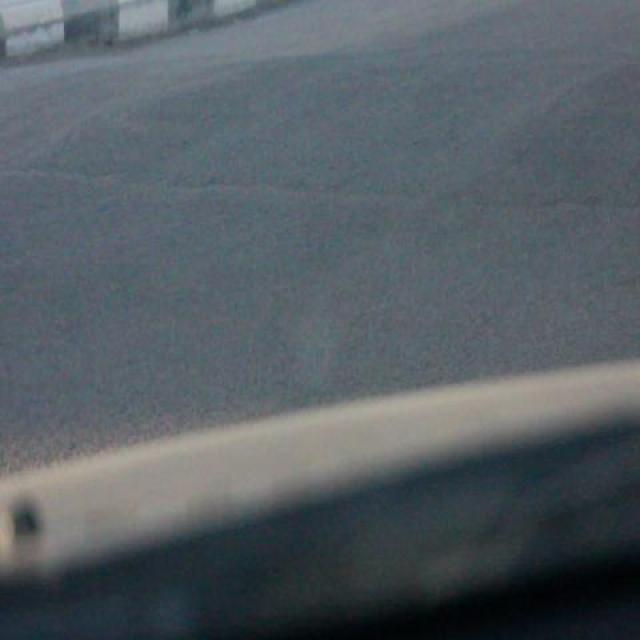Unmarked Bump: (0, 48, 640, 212)
